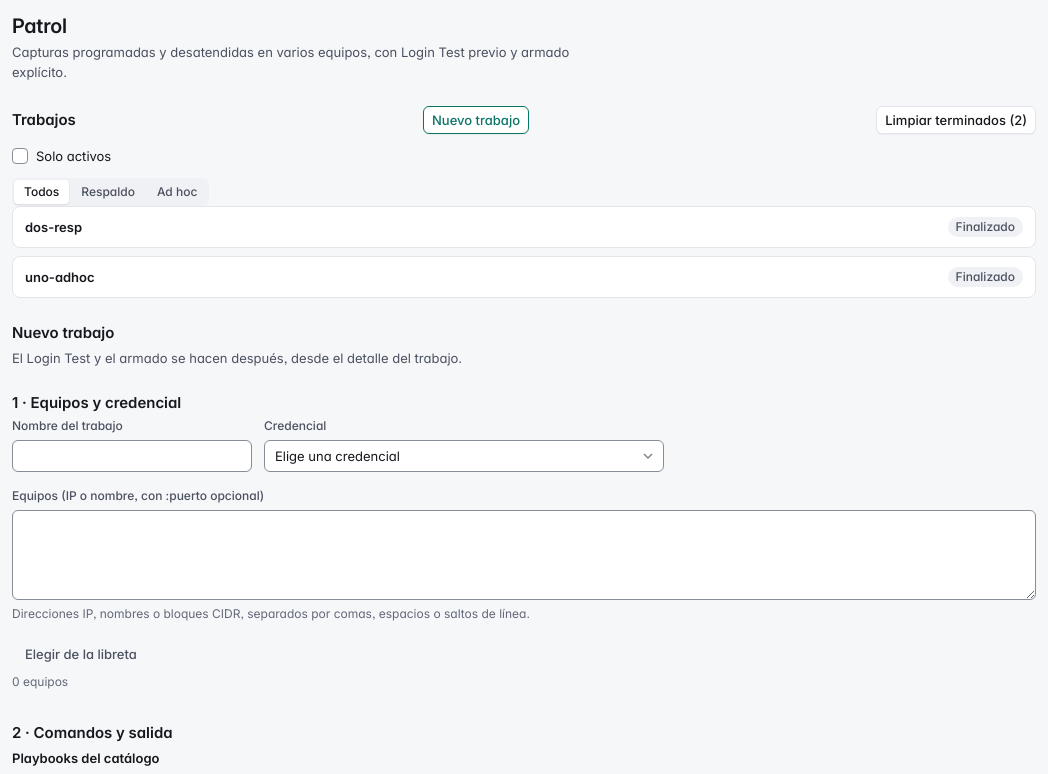
it: filtra la lista por tipo de trabajo
Check: the button "uno-adhoc Finalizado" is shown, box [12, 256, 1036, 298]
Check: the radio button labelled "Todos" is checked, box [14, 180, 69, 204]
Click the radio button labelled "Respaldo".
click(108, 192)  # box [81, 184, 135, 199]
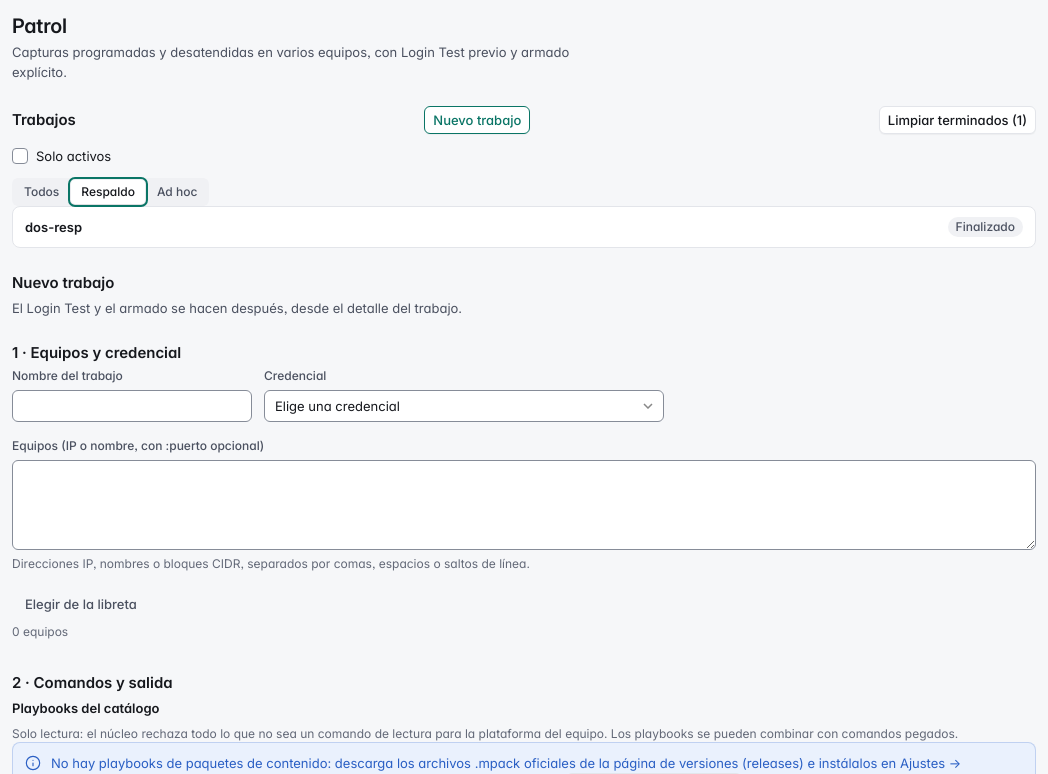
Check: the button "dos-resp Finalizado" is shown, box [12, 206, 1036, 248]
Check: the button "uno-adhoc" is gone
